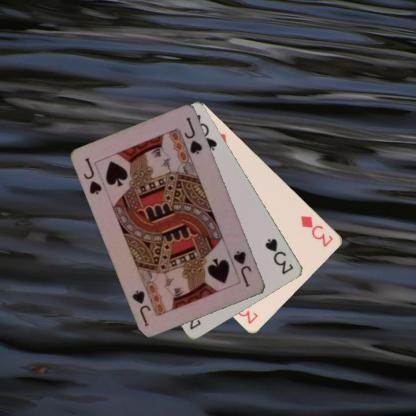3d: (298, 212, 335, 248)
3s: (263, 236, 295, 276)
Js: (231, 247, 253, 288), (81, 155, 103, 196)
